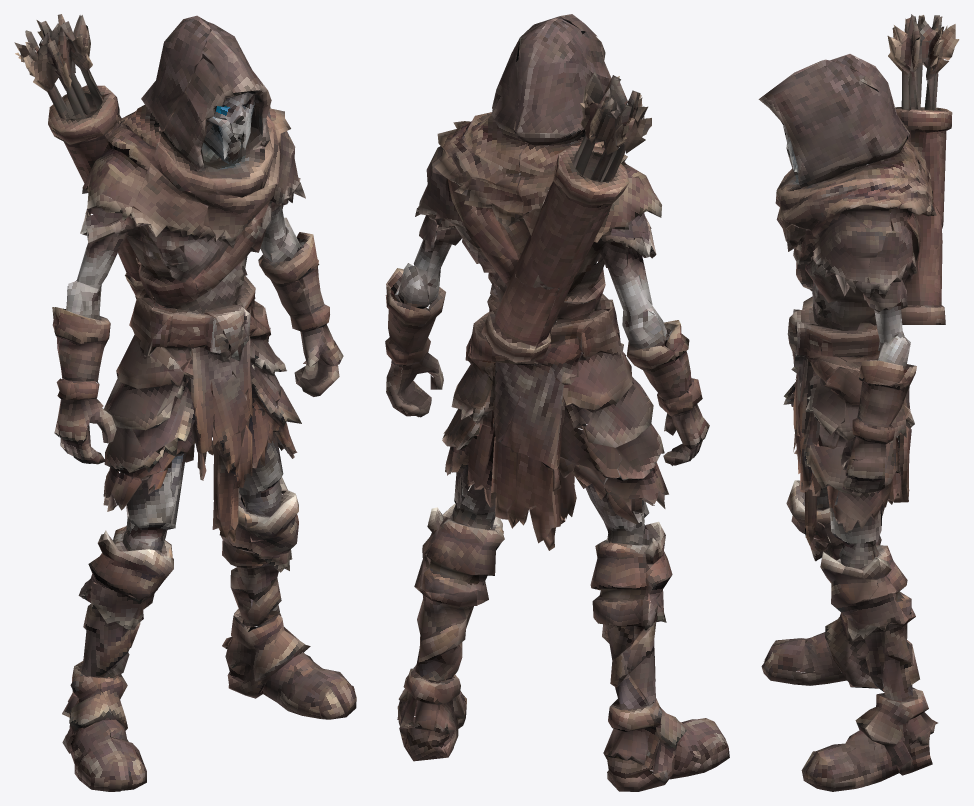
The model's file is tripo_archer.glb.
3 renders of one model, left to right at view 1: azimuth 30°, elevation 25°; view 2: azimuth 150°, elevation 25°; view 3: azimuth 270°, elevation 25°, orthographic. The views are drawn at different scales.
Parts seen in each view (by area): view 1: tripo_archer; view 2: tripo_archer; view 3: tripo_archer.
Boxes of the visible parts, box(x1,y1,x2,y2) form: tripo_archer: box(14, 14, 356, 791); tripo_archer: box(385, 14, 729, 791); tripo_archer: box(758, 14, 959, 791).
Size of the model in its own units: 0.7709 by 1.79 by 0.487.
1 material, 1 textured.
